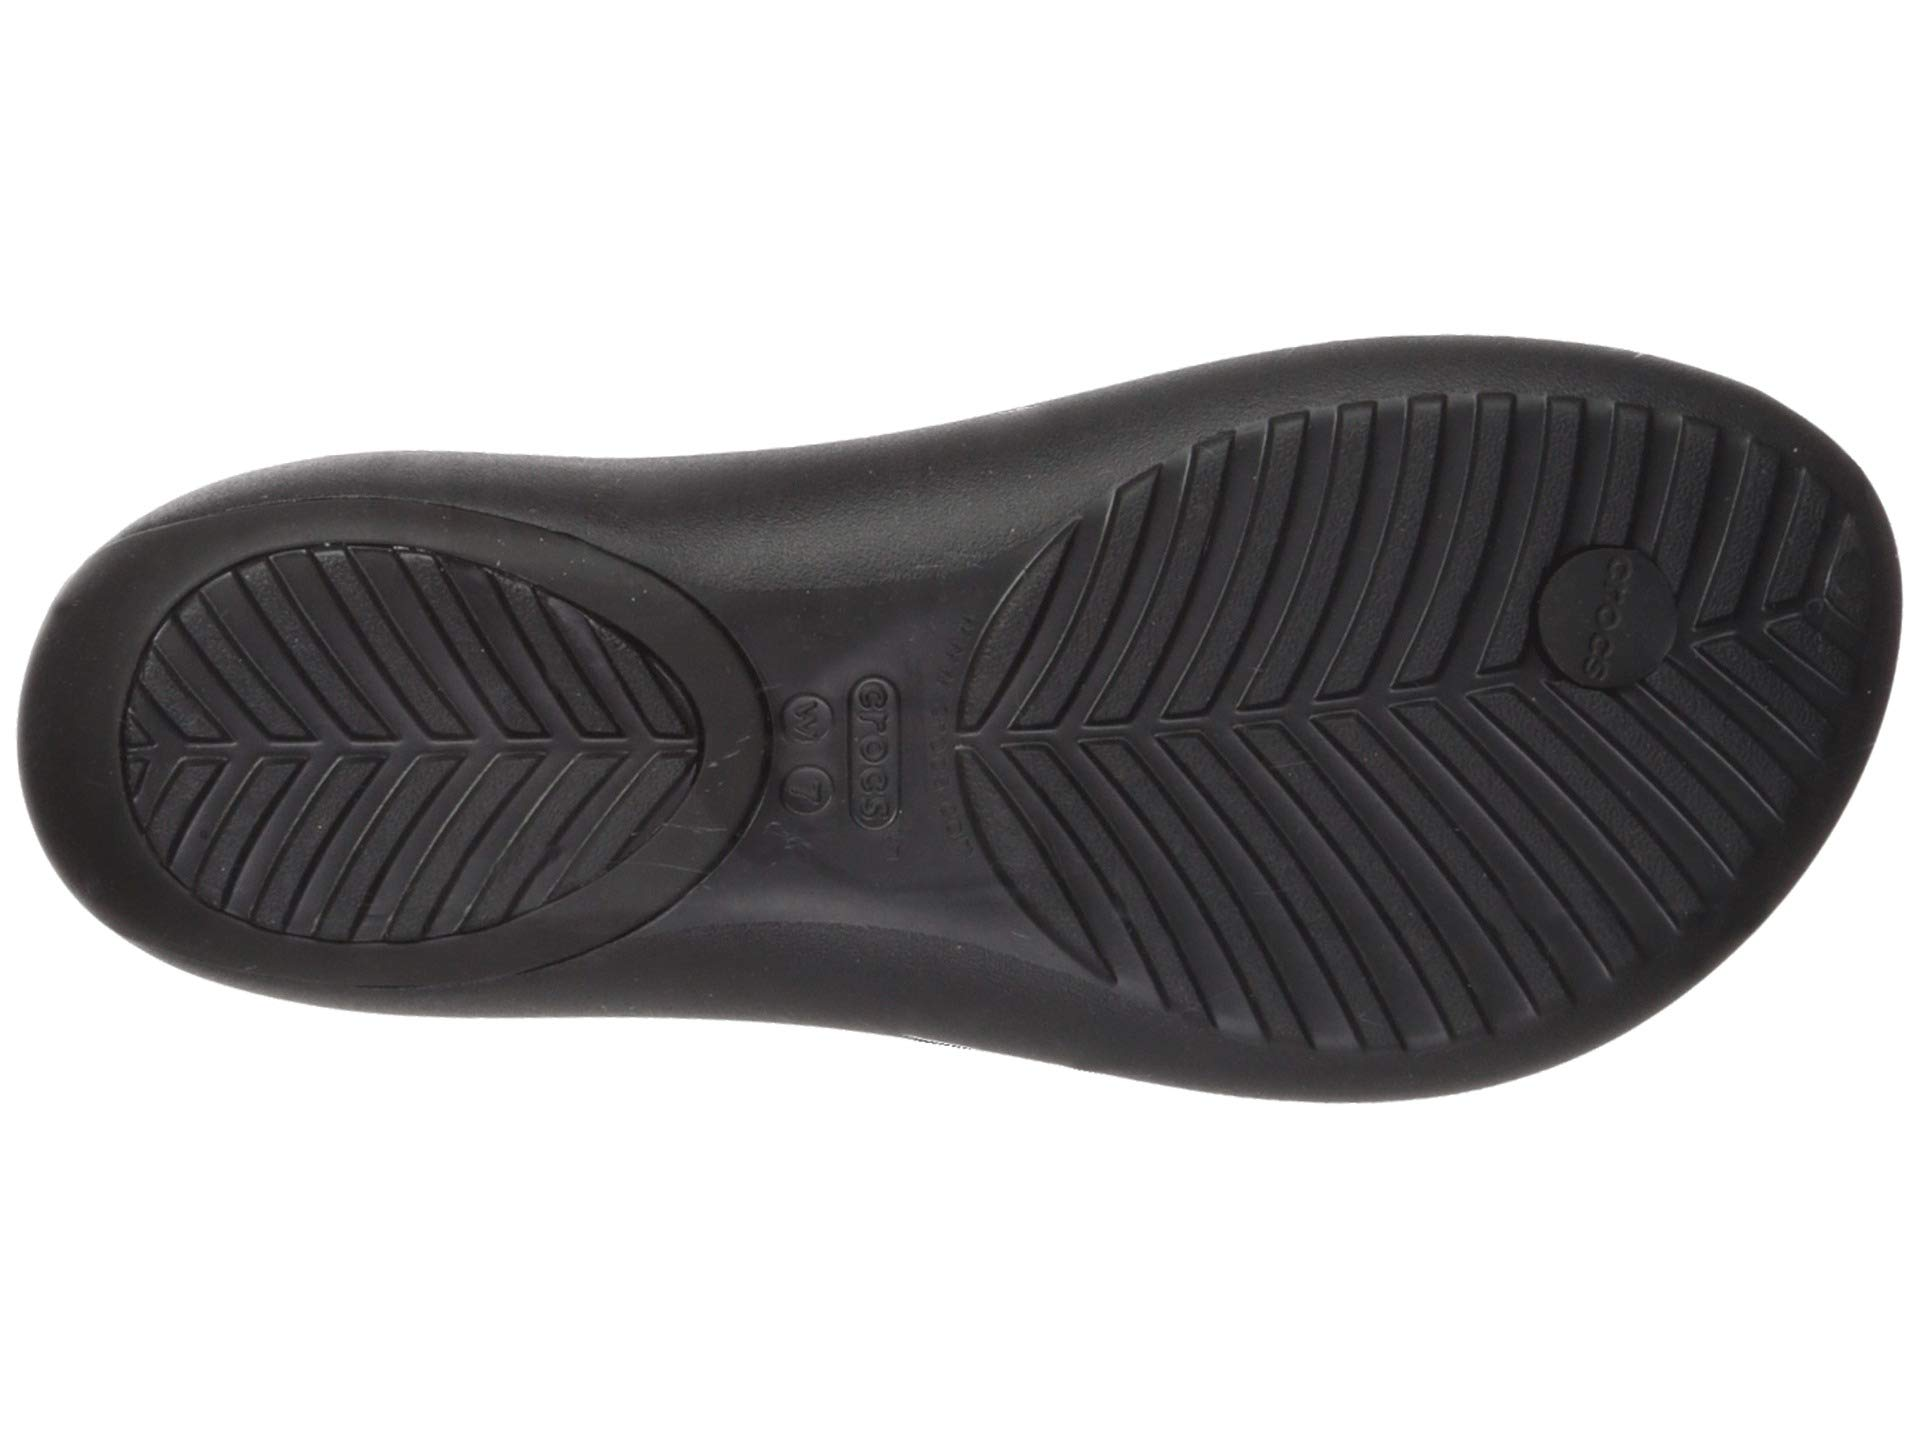circle: (765, 656, 915, 894), (1513, 531, 1683, 708)
quad: (1025, 711, 1593, 1060), (1046, 377, 1495, 691), (165, 557, 652, 731), (175, 755, 571, 923), (1710, 430, 1855, 734)
text: (765, 656, 915, 894), (1513, 531, 1683, 708)
